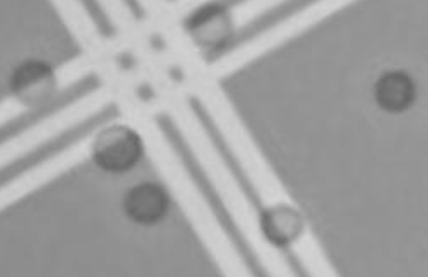cell: (86, 117, 147, 178), (6, 53, 62, 112), (365, 61, 422, 118), (119, 175, 173, 229), (184, 2, 236, 53), (255, 198, 308, 248)
